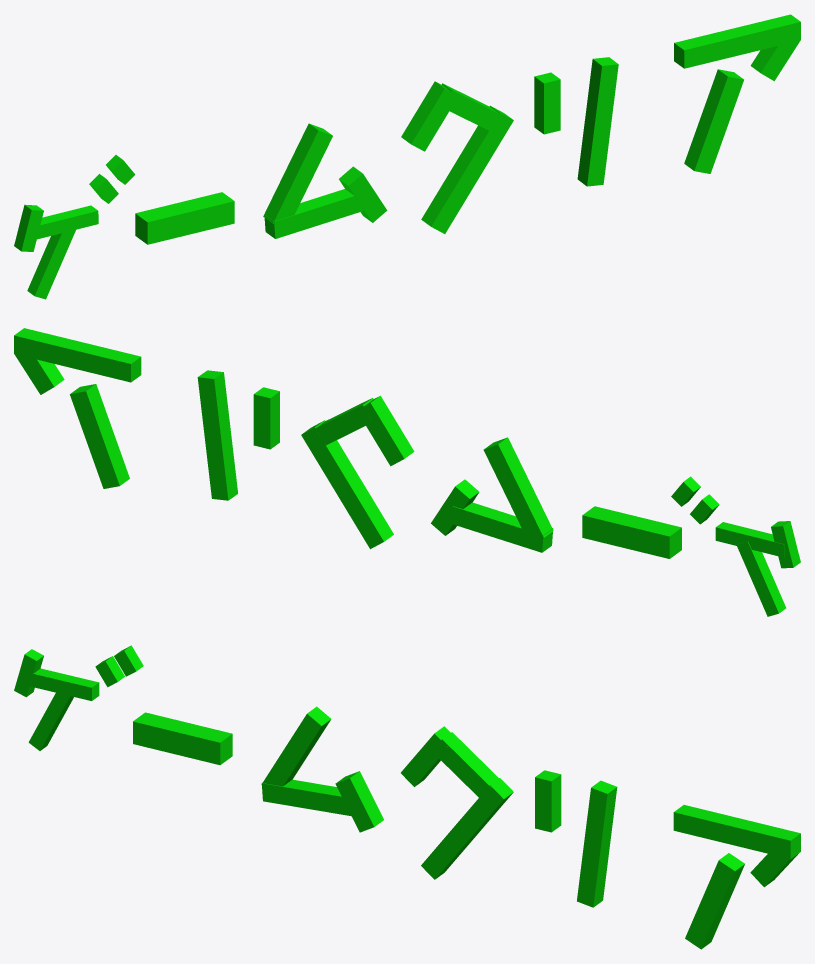
File: GameClearModel.fbx
3 renders of one model, top to bottom at view 1: azimuth 30°, elevation 25°; view 2: azimuth 150°, elevation 25°; view 3: azimuth 330°, elevation 25°, orthographic.
Parts seen in each view (by area): view 1: pCube24; view 2: pCube24; view 3: pCube24.
Part boxes in pixels (box(x1,y1,x2,y2)): pCube24: box(14, 14, 800, 299); pCube24: box(14, 328, 800, 616); pCube24: box(14, 645, 800, 949).
Bounding box in the file's own units: 36.2 × 6.75 × 1.23.
